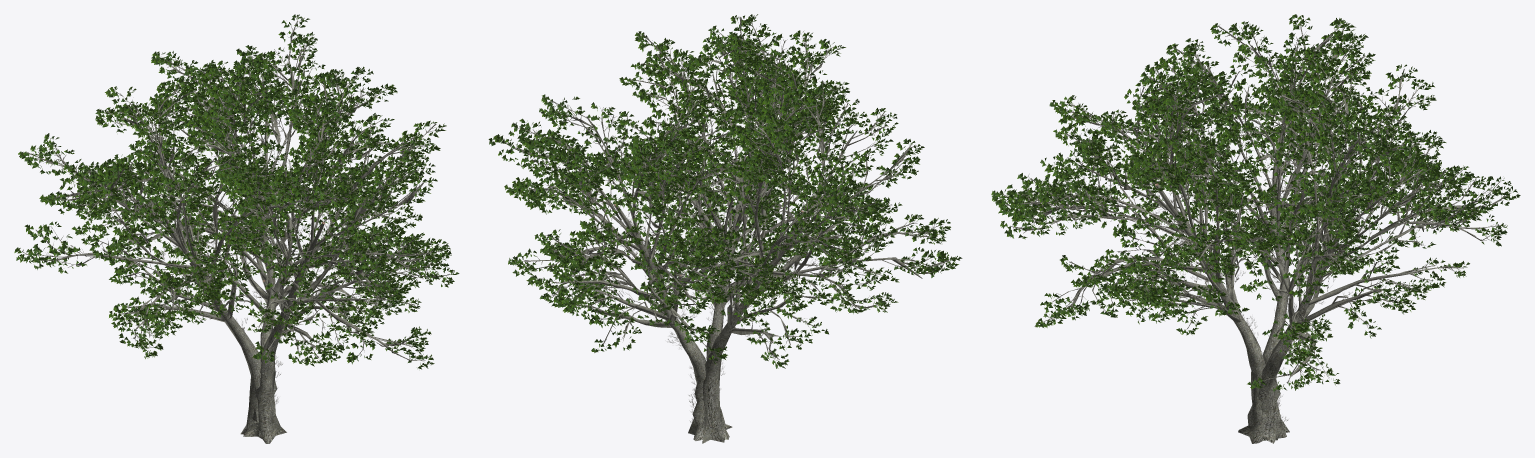
Rendered from elmtree_mid.glb.
3 views of the same model, side by side, from view 1: azimuth 30°, elevation 25°; view 2: azimuth 150°, elevation 25°; view 3: azimuth 270°, elevation 25° (orthographic). The views are drawn at different scales.
Parts seen in each view (by area): view 1: American Elm; view 2: American Elm; view 3: American Elm.
Part boxes in pixels (x1,y1,x2,y2): American Elm: (14, 14, 459, 443); American Elm: (488, 14, 962, 443); American Elm: (991, 14, 1520, 443).
Bounding box in the file's own units: 18.43 × 16.34 × 21.02.
Materials: 4 (4 with a texture image).
